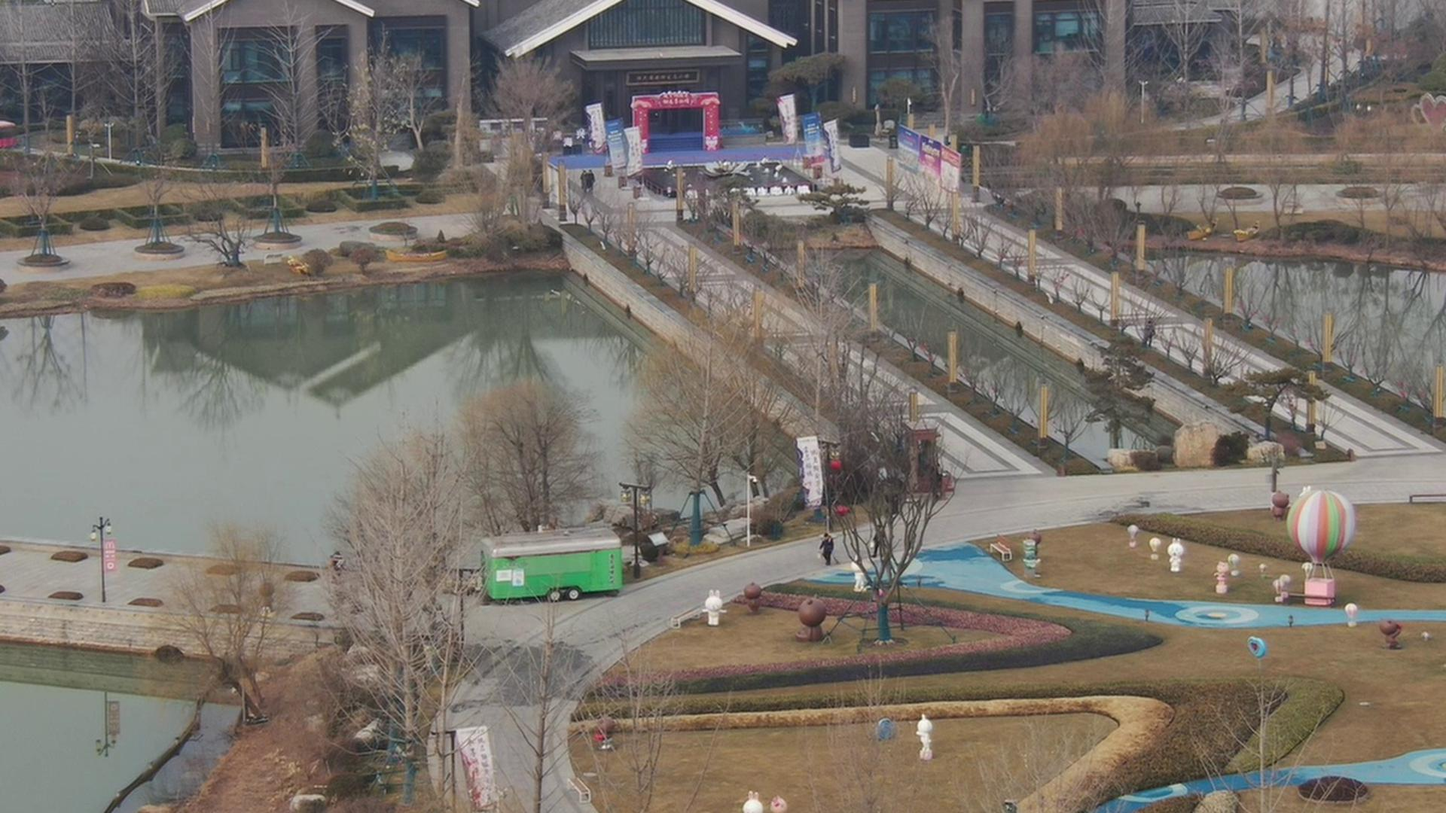class_2: (579, 163, 597, 194)
human: (813, 529, 836, 566)
